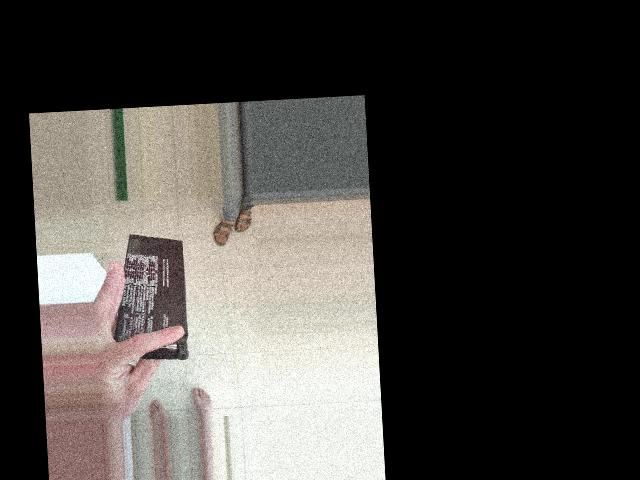chocolate: (124, 263, 261, 343)
